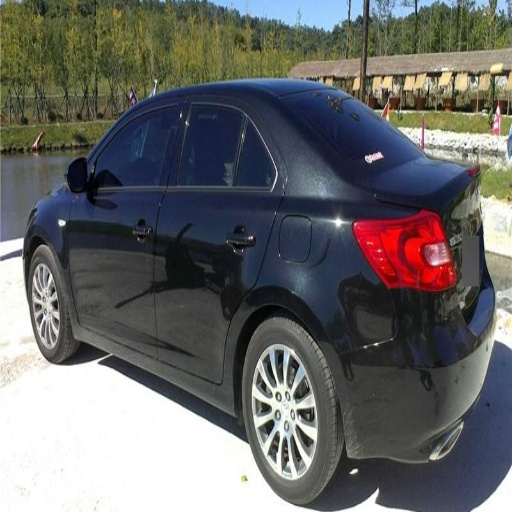back_bumper: (321, 291, 490, 460)
back_glass: (277, 92, 417, 173)
back_left_door: (154, 100, 283, 377)
tailgate: (377, 161, 453, 224)
